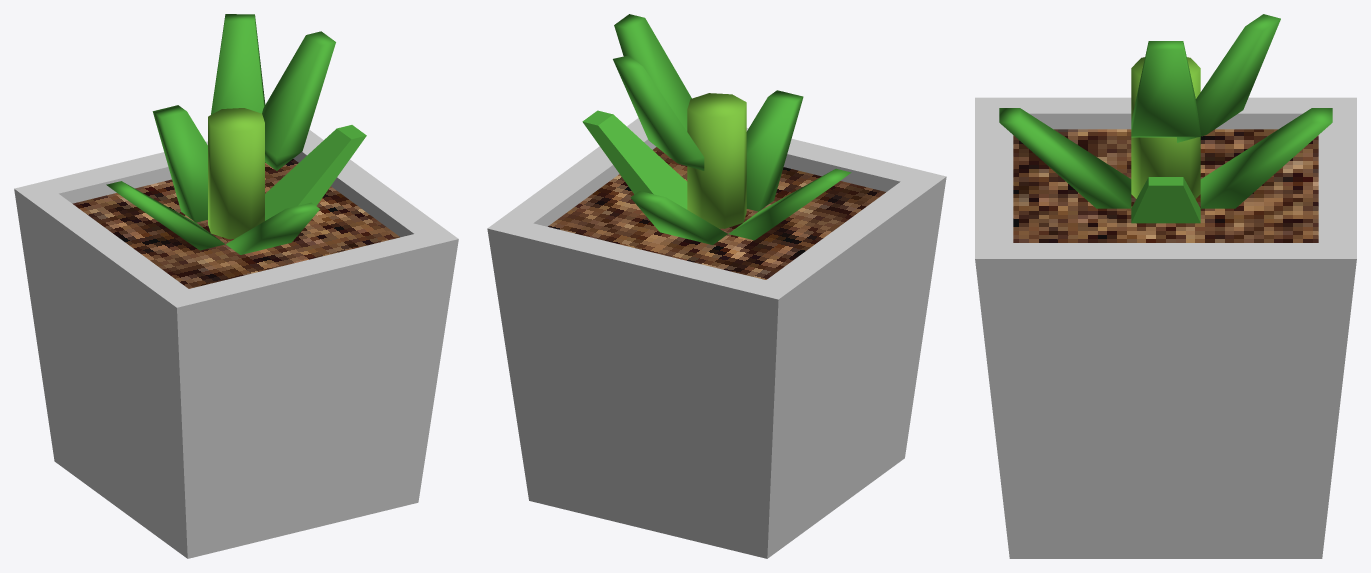
File: plant.glb
3 renders of one model, left to right at view 1: azimuth 30°, elevation 25°; view 2: azimuth 150°, elevation 25°; view 3: azimuth 270°, elevation 25°, orthographic. The views are drawn at different scales.
Parts seen in each view (by area): view 1: Pot, Soil, Stalk, Leaf.001, Leaf.003, Leaf.005, Leaf, Leaf.004, Leaf.002; view 2: Pot, Soil, Stalk, Leaf.004, Leaf, Leaf.005, Leaf.001, Leaf.003, Leaf.002; view 3: Pot, Soil, Leaf.001, Leaf.004, Leaf.003, Leaf.005, Stalk, Leaf.
Part boxes in pixels (x1,y1,x2,y2): Pot: (14, 130, 458, 558); Soil: (72, 159, 399, 288); Stalk: (208, 108, 264, 239); Leaf.001: (262, 31, 335, 170); Leaf.003: (152, 105, 207, 222); Leaf.005: (211, 14, 265, 114); Leaf: (265, 125, 366, 220); Leaf.004: (226, 202, 319, 254); Leaf.002: (106, 181, 224, 250); Pot: (487, 118, 946, 558); Soil: (548, 147, 885, 279); Stalk: (687, 93, 746, 228); Leaf.004: (746, 90, 803, 211); Leaf: (582, 110, 687, 209); Leaf.005: (613, 55, 704, 170); Leaf.001: (614, 14, 691, 131); Leaf.003: (630, 191, 727, 244); Leaf.002: (728, 168, 851, 240); Pot: (975, 97, 1356, 558); Soil: (1013, 129, 1318, 242); Leaf.001: (1131, 41, 1200, 137); Leaf.004: (999, 108, 1131, 208); Leaf.003: (1200, 108, 1332, 208); Leaf.005: (1177, 14, 1280, 142); Stalk: (1131, 57, 1200, 198); Leaf: (1131, 177, 1200, 223).
Bounding box in the file's own units: 0.055 × 0.0788 × 0.055.
Materials: 4 (1 with a texture image).
